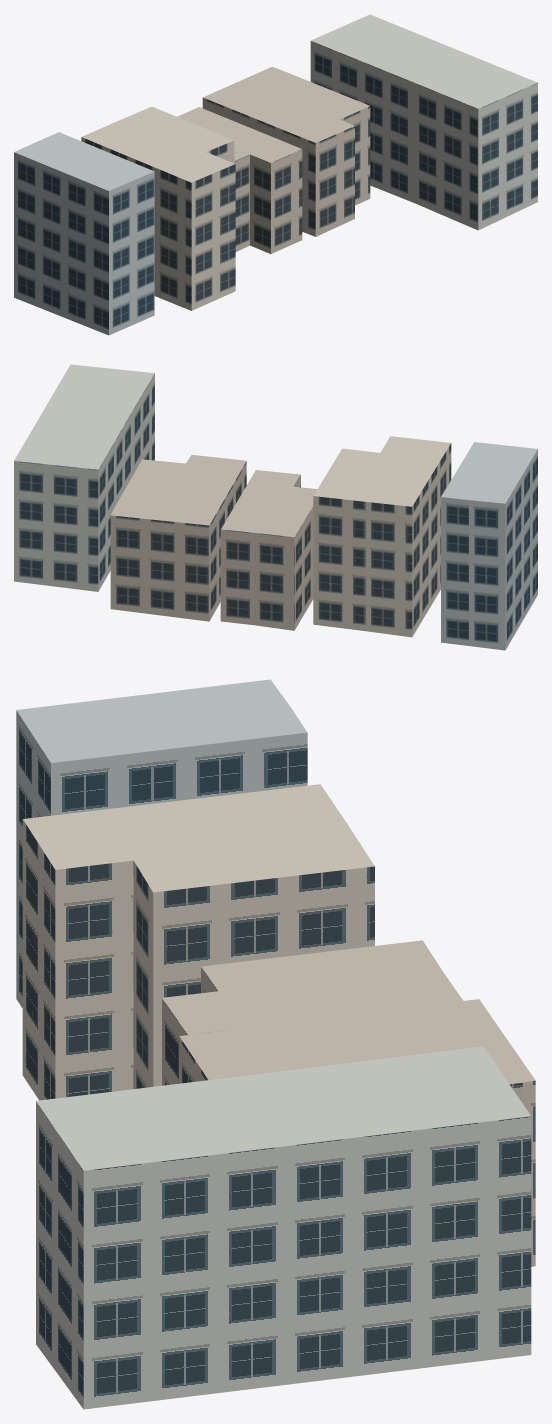
File: city_7_-6.glb
3 views of the same model, one above another, from view 1: azimuth 30°, elevation 25°; view 2: azimuth 150°, elevation 25°; view 3: azimuth 270°, elevation 25° (orthographic). The views are drawn at different scales.
Bounding box in the file's own units: 56.49 × 16.45 × 26.62.
Materials: 4 (4 with a texture image).
